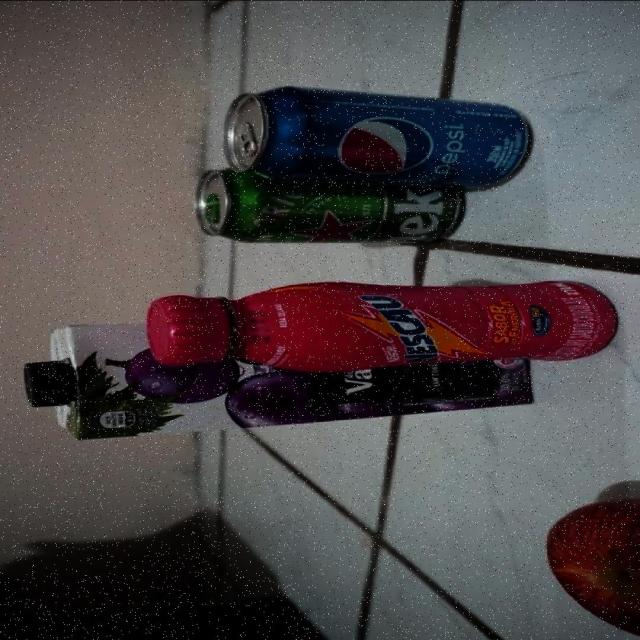Apple: (540, 494, 640, 640)
BeerCan: (187, 183, 478, 252)
ChocolateMilk: (147, 279, 617, 369)
SodaCan: (227, 86, 532, 180)
